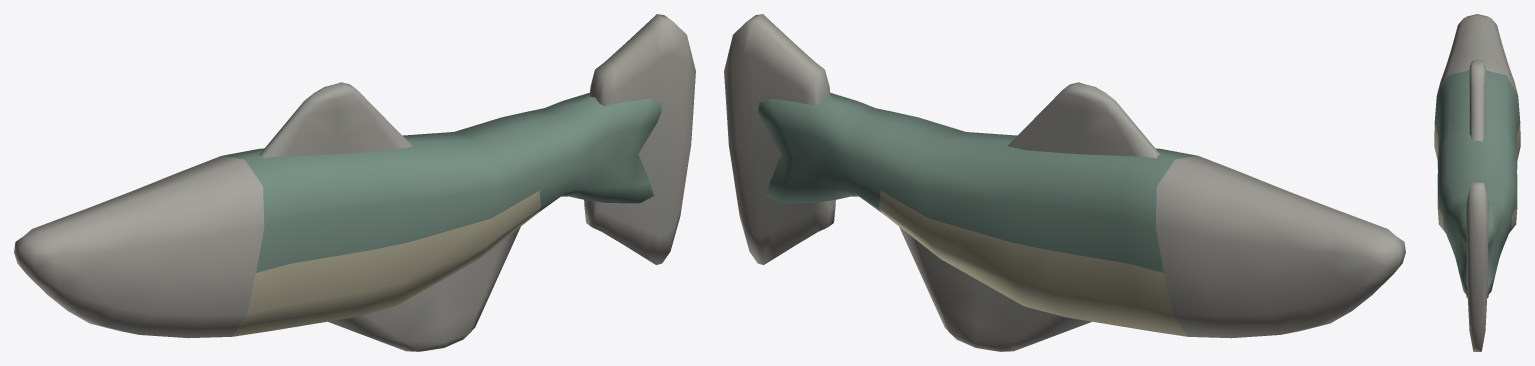
File: Prop_Fish_Mackerel.glb
The picture shows the model from 3 angles, left to right: view 1: azimuth 30°, elevation 25°; view 2: azimuth 150°, elevation 25°; view 3: azimuth 270°, elevation 25°; orthographic projection. The views are drawn at different scales.
Parts seen in each view (by area): view 1: Prop_Fish_Mackerel; view 2: Prop_Fish_Mackerel; view 3: Prop_Fish_Mackerel.
Boxes of the visible parts, left/top/right/bottom form: Prop_Fish_Mackerel: left=14, top=14, right=695, bottom=351; Prop_Fish_Mackerel: left=724, top=14, right=1405, bottom=351; Prop_Fish_Mackerel: left=1434, top=14, right=1520, bottom=351.
Size of the model in its own units: 1.56 by 0.6294 by 0.2494.
Materials: 1 (1 with a texture image).
